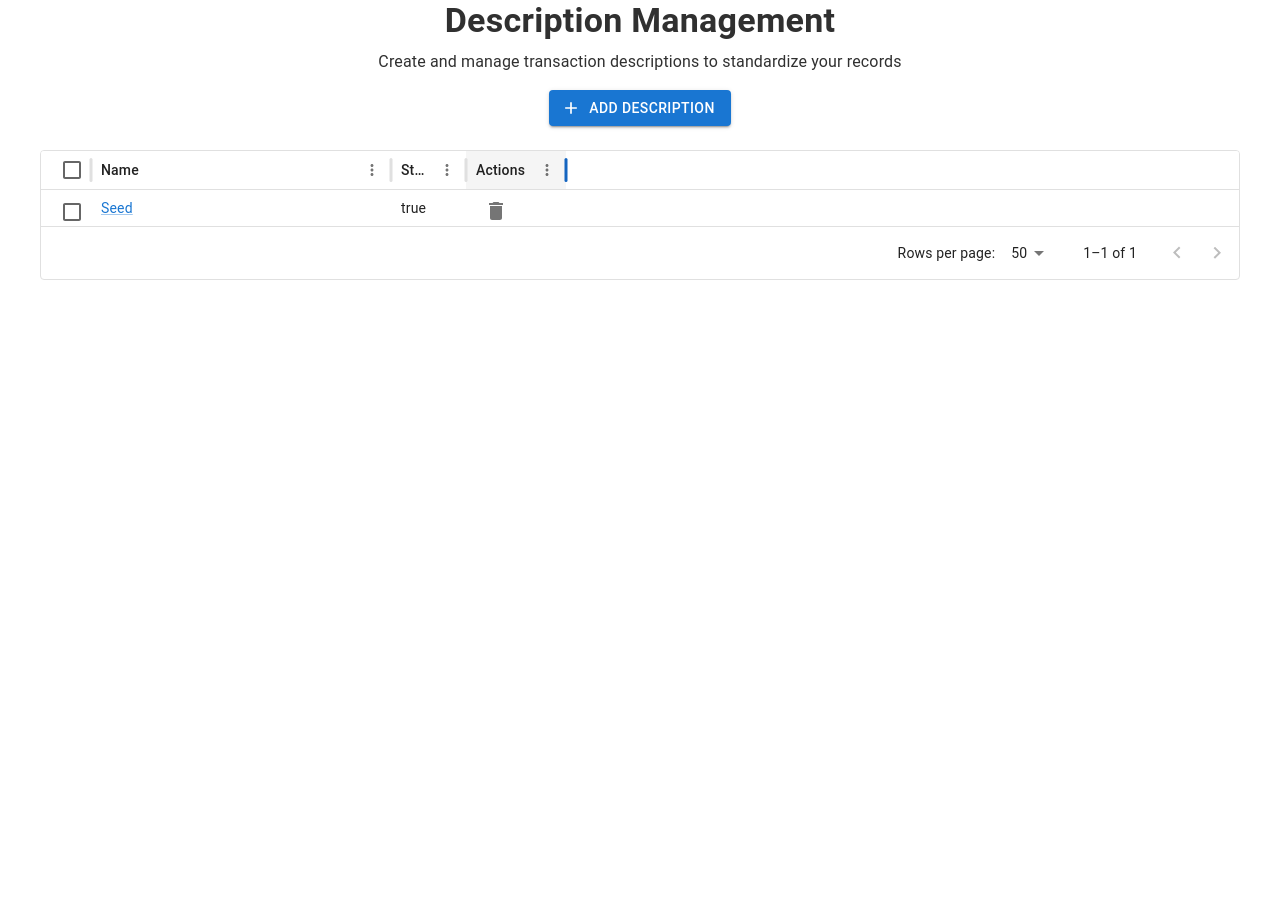
Scenario: pages/finance/descriptions › Basic CRUD Operations › adds a new description (happy path)
The image size is (1280, 900).
What coordinates should you click on to do the following:
click the button "Add Description"
I would click on:
 (640, 108)
Its box is [549,90,731,126].
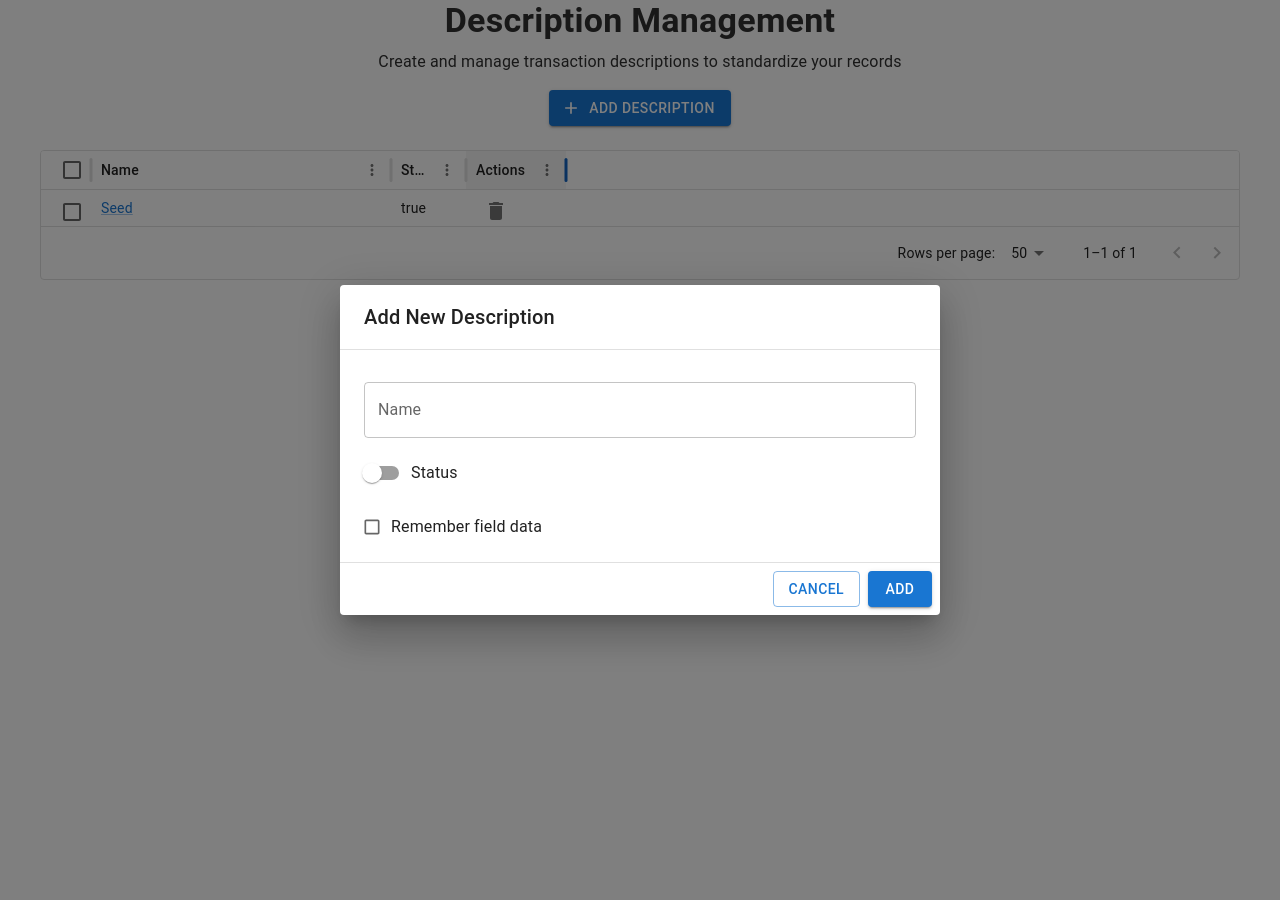
What coordinates should you click on to do the following:
click the button "Add"
I would click on:
 (900, 589)
Its box is [868,571,932,607].
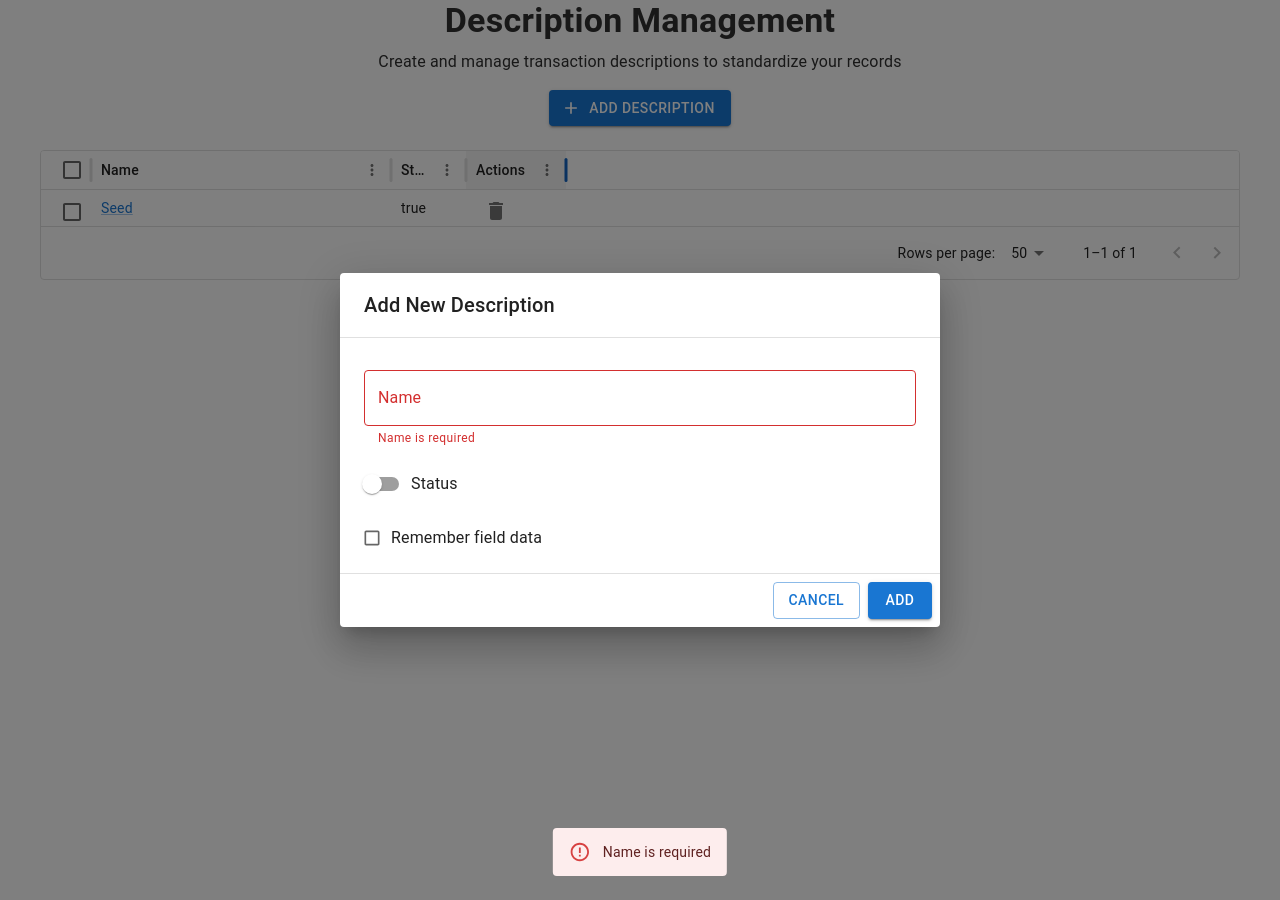
Now the text "Name is required" is shown 2 times, box [603,844,711,860]; [378,431,475,445]
